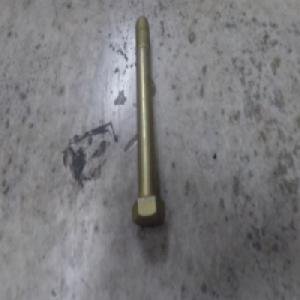Bolt: (131, 18, 166, 225)
